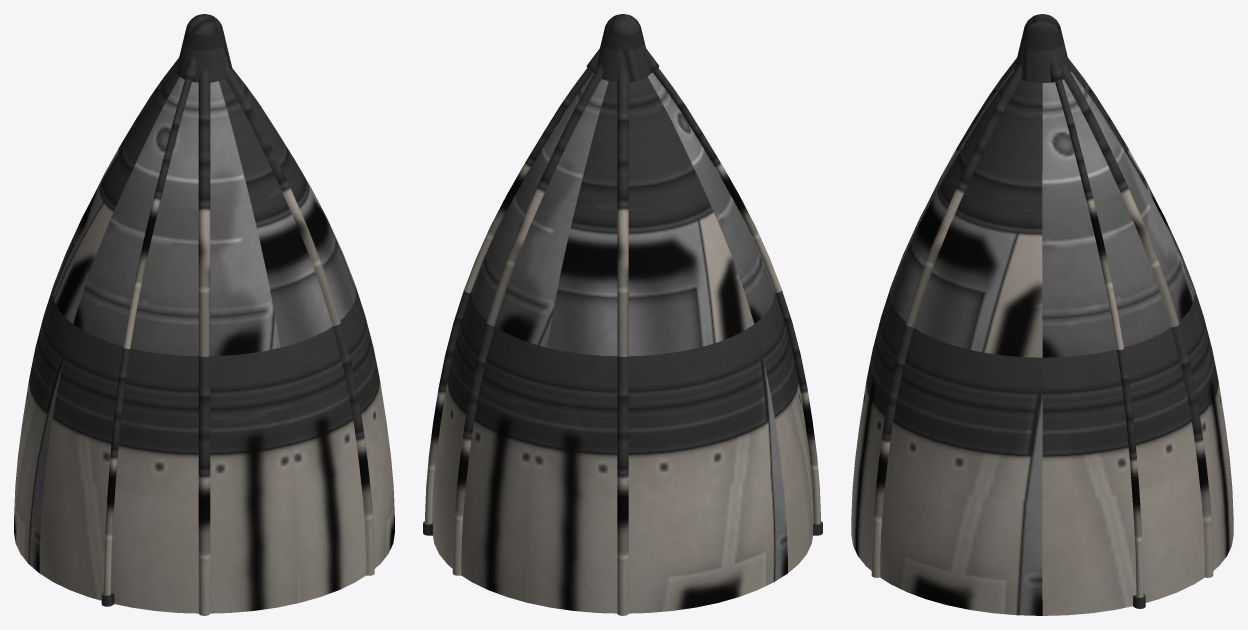
File: rotanev_lv_nose_fuel_tank_s4_1.obj
3 renders of one model, left to right at view 1: azimuth 30°, elevation 25°; view 2: azimuth 150°, elevation 25°; view 3: azimuth 270°, elevation 25°, orthographic.
Visible parts, largest first — view 1: 1; view 2: 1; view 3: 1.
Part boxes in pixels (left/top/right/bottom): 1: left=14, top=14, right=394, bottom=615; 1: left=423, top=14, right=822, bottom=615; 1: left=851, top=14, right=1233, bottom=615.
Bounding box in the file's own units: 5 × 7.5 × 5.
